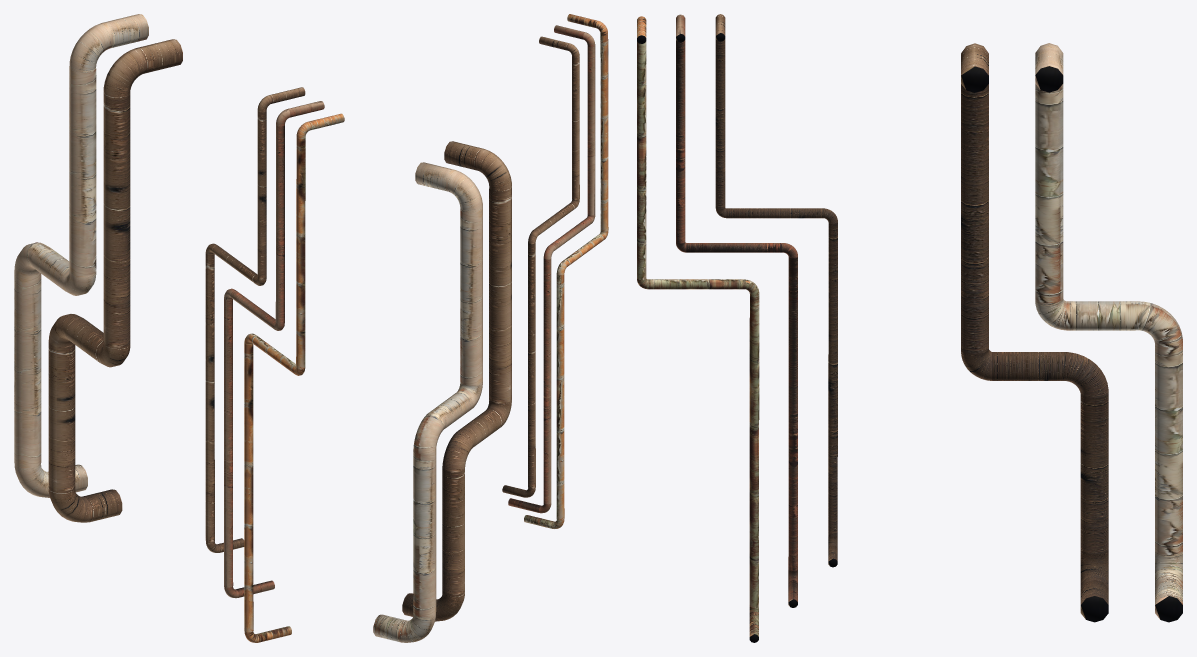
The model's file is wallPipeCombo_high.fbx.
3 views of the same model, side by side, from view 1: azimuth 30°, elevation 25°; view 2: azimuth 150°, elevation 25°; view 3: azimuth 270°, elevation 25° (orthographic). The views are drawn at different scales.
Visible parts, largest first — view 1: pipeB200, pipeA200, pipeE200, pipeC200, pipeD200; view 2: pipeA200, pipeB200, pipeE200, pipeD200, pipeC200; view 3: pipeA200, pipeB200, pipeE200, pipeD200, pipeC200.
Boxes of the visible parts, left/top/right/bottom form: pipeB200: left=48, top=39, right=182, bottom=522; pipeA200: left=14, top=14, right=148, bottom=497; pipeE200: left=244, top=113, right=344, bottom=642; pipeC200: left=205, top=87, right=305, bottom=552; pipeD200: left=224, top=101, right=324, bottom=598; pipeA200: left=373, top=162, right=482, bottom=642; pipeB200: left=402, top=141, right=511, bottom=621; pipeE200: left=524, top=14, right=608, bottom=528; pipeD200: left=508, top=25, right=595, bottom=513; pipeC200: left=502, top=36, right=579, bottom=497; pipeA200: left=1035, top=43, right=1182, bottom=622; pipeB200: left=961, top=43, right=1108, bottom=622; pipeE200: left=637, top=16, right=759, bottom=642; pipeD200: left=676, top=14, right=797, bottom=607; pipeC200: left=715, top=14, right=837, bottom=567.
Size of the model in its own units: 0.9833 by 6.24 by 5.07.
